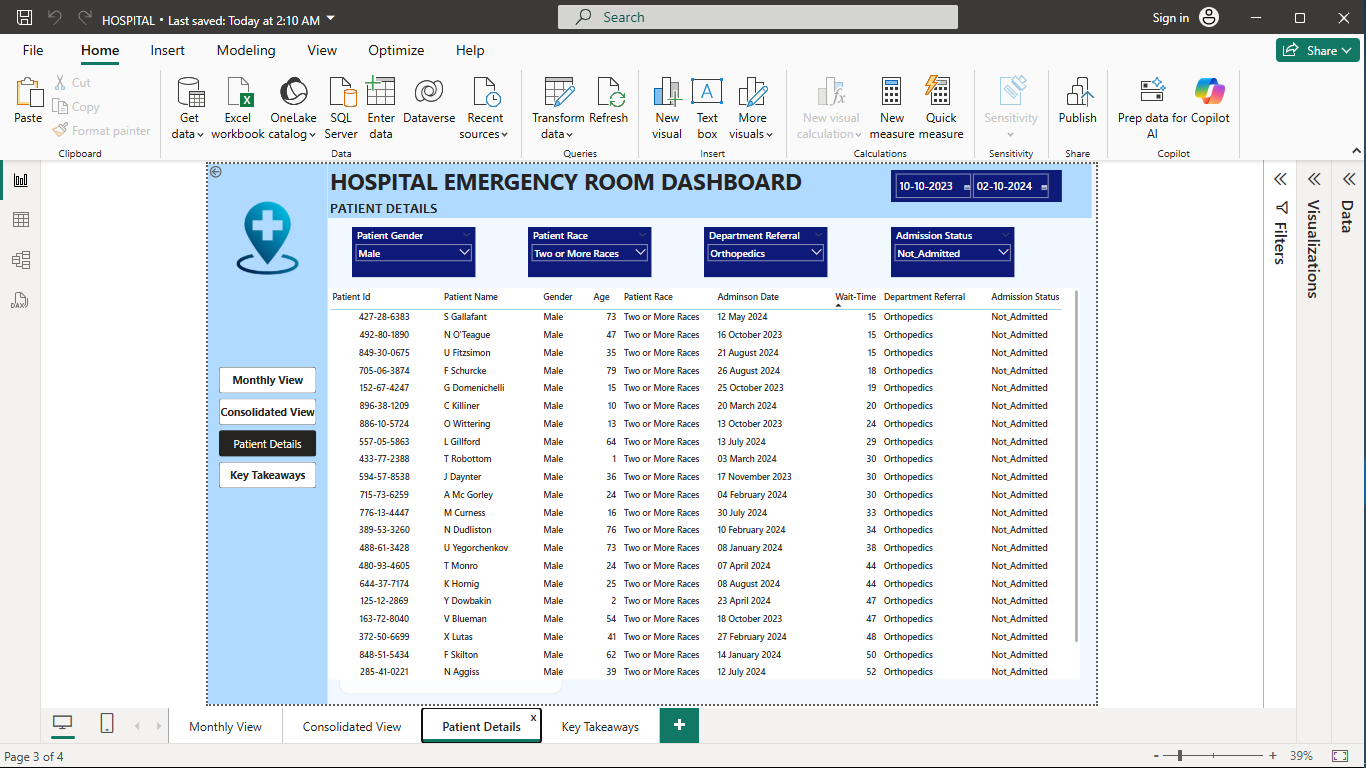

The page's visual inventory and layout, read from the dashboard file:
{"tool":"powerbi","page":{"name":"Patient Details","canvas":[2300,1400],"ordinal":2},"visuals":[{"type":"shape","box":[0,0,310,1400],"z":0},{"type":"shape","box":[310,0,1980,140],"z":1000},{"type":"textbox","box":[310,0,1247.5,100],"z":2000},{"type":"shape","box":[340,1040,580,335],"z":3000},{"type":"image","box":[55,62.5,200,260],"z":4000},{"type":"textbox","box":[310,70,320,92.5],"z":5000},{"type":"tableEx","fields":{"Values":["Hospital ER_Data.Patient Id","Hospital ER_Data.Patient Full Name","Hospital ER_Data.Patient Gender","Hospital ER_Data.Patient Age","Hospital ER_Data.Patient Race","Hospital ER_Data.Patient admin date","Hospital ER_Data.Patient Waittime","Hospital ER_Data.Department Referral","Hospital ER_Data.Admission Status"]},"box":[310,322.5,1950,1015],"z":6000},{"type":"actionButton","box":[0,0,100,40],"z":7000},{"type":"slicer","fields":{"Values":["Date Table.Date"]},"box":[1770,16.7,443.3,83.3],"z":8000},{"type":"slicer","fields":{"Values":["Hospital ER_Data.Patient Gender"]},"box":[372.5,162.5,320,130],"z":9000},{"type":"slicer","fields":{"Values":["Hospital ER_Data.Patient Race"]},"box":[830,162.5,320,130],"z":10000},{"type":"slicer","fields":{"Values":["Hospital ER_Data.Department Referral"]},"box":[1285,162.5,320,130],"z":11000},{"type":"slicer","fields":{"Values":["Hospital ER_Data.Admission Status"]},"box":[1770,162.5,320,130],"z":12000},{"type":"pageNavigator","box":[27.5,525,252.5,315],"z":13000}]}

Visuals, with their boxes on the page's 2300x1400 design canvas (x1, y1, x2, y2). These are canvas units, not pixel positions in the 1366x768 screenshot, which may show the page scaled, cropped or inside an application window:
shape: select_region(0, 0, 310, 1400)
shape: select_region(310, 0, 2290, 140)
textbox: select_region(310, 0, 1558, 100)
shape: select_region(340, 1040, 920, 1375)
image: select_region(55, 62, 255, 322)
textbox: select_region(310, 70, 630, 162)
tableEx - Hospital ER_Data.Patient Id x Hospital ER_Data.Patient Full Name: select_region(310, 322, 2260, 1338)
actionButton: select_region(0, 0, 100, 40)
slicer - Date Table.Date: select_region(1770, 17, 2213, 100)
slicer - Hospital ER_Data.Patient Gender: select_region(372, 162, 692, 292)
slicer - Hospital ER_Data.Patient Race: select_region(830, 162, 1150, 292)
slicer - Hospital ER_Data.Department Referral: select_region(1285, 162, 1605, 292)
slicer - Hospital ER_Data.Admission Status: select_region(1770, 162, 2090, 292)
pageNavigator: select_region(28, 525, 280, 840)
